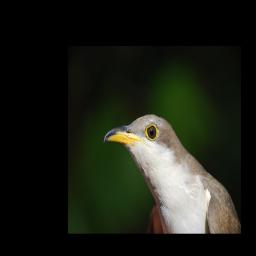Cuckoo: (104, 113, 241, 232)
